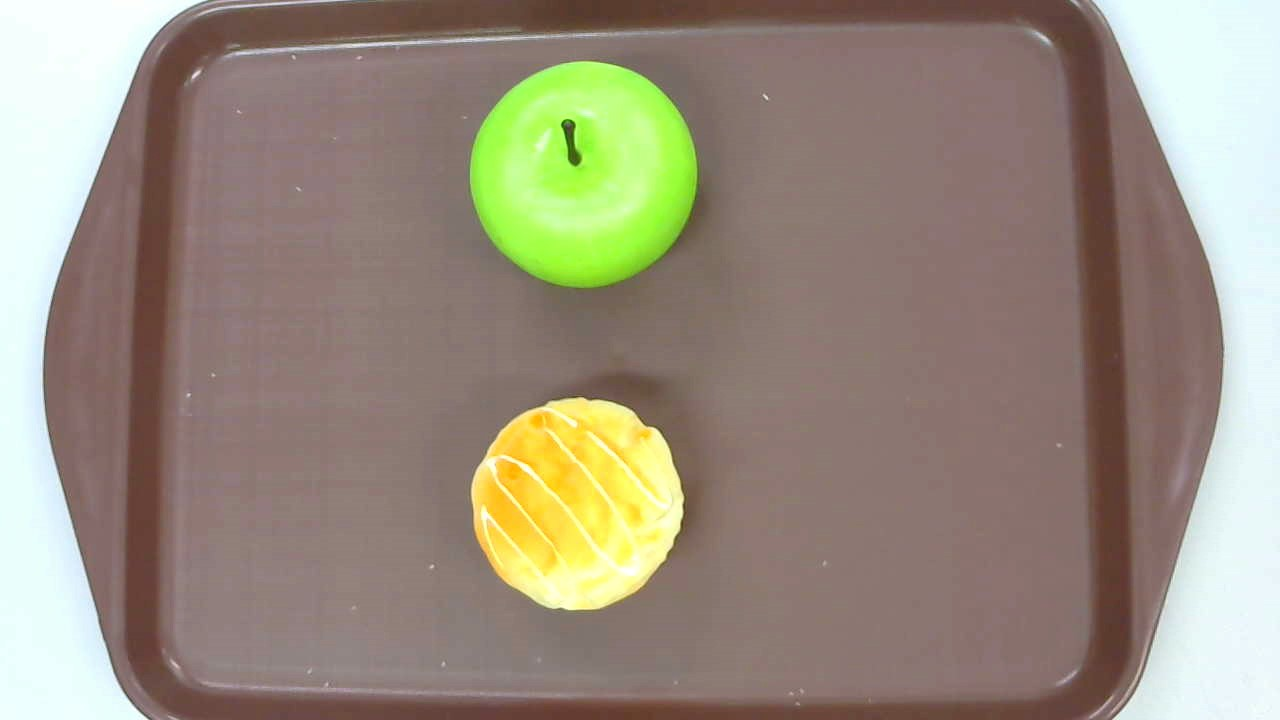cupcake: (471, 396, 687, 611)
green apple: (467, 61, 700, 289)
